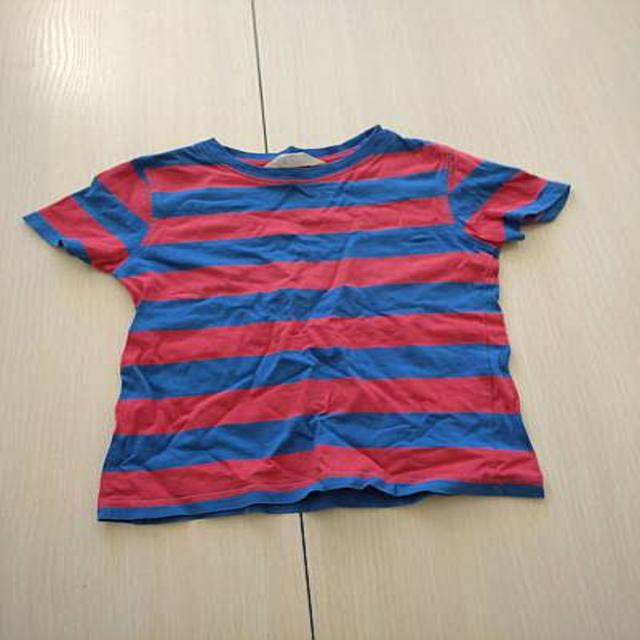T_SHIRT: (16, 119, 585, 529)
